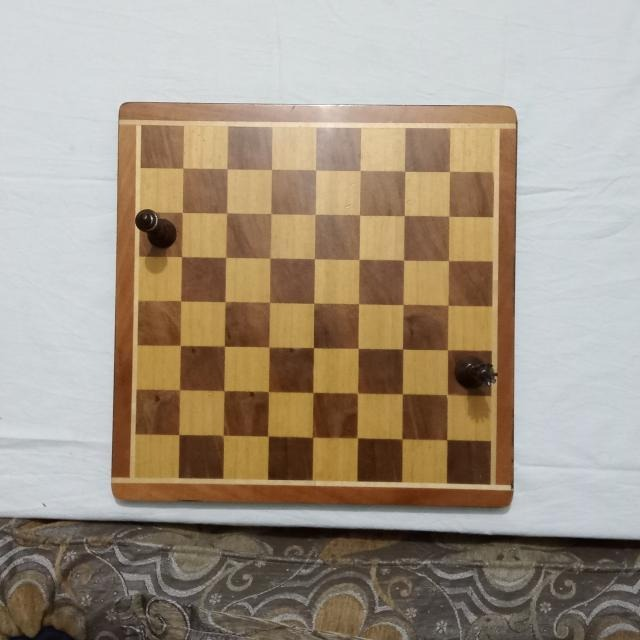black-king: (134, 209, 179, 250)
black-queen: (455, 355, 500, 393)
